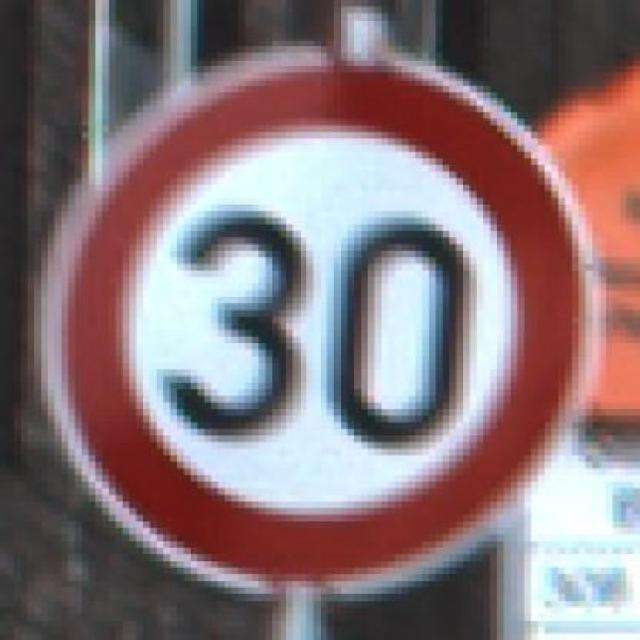Speed Limit 30 KMPh: (34, 26, 620, 608)
